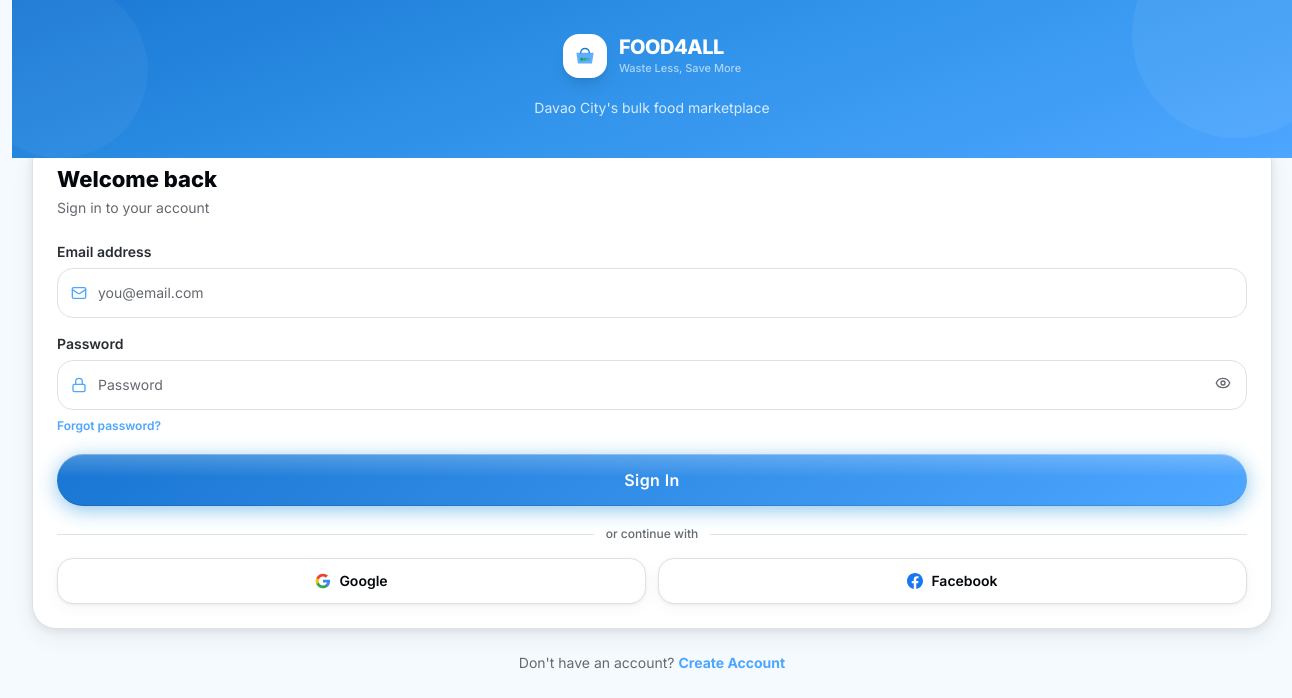
it: rendered auth screens › shows login validation errors for empty email and password
Click the button "Sign In" at [652, 480], box [57,454,1247,506]
(page scrolled)
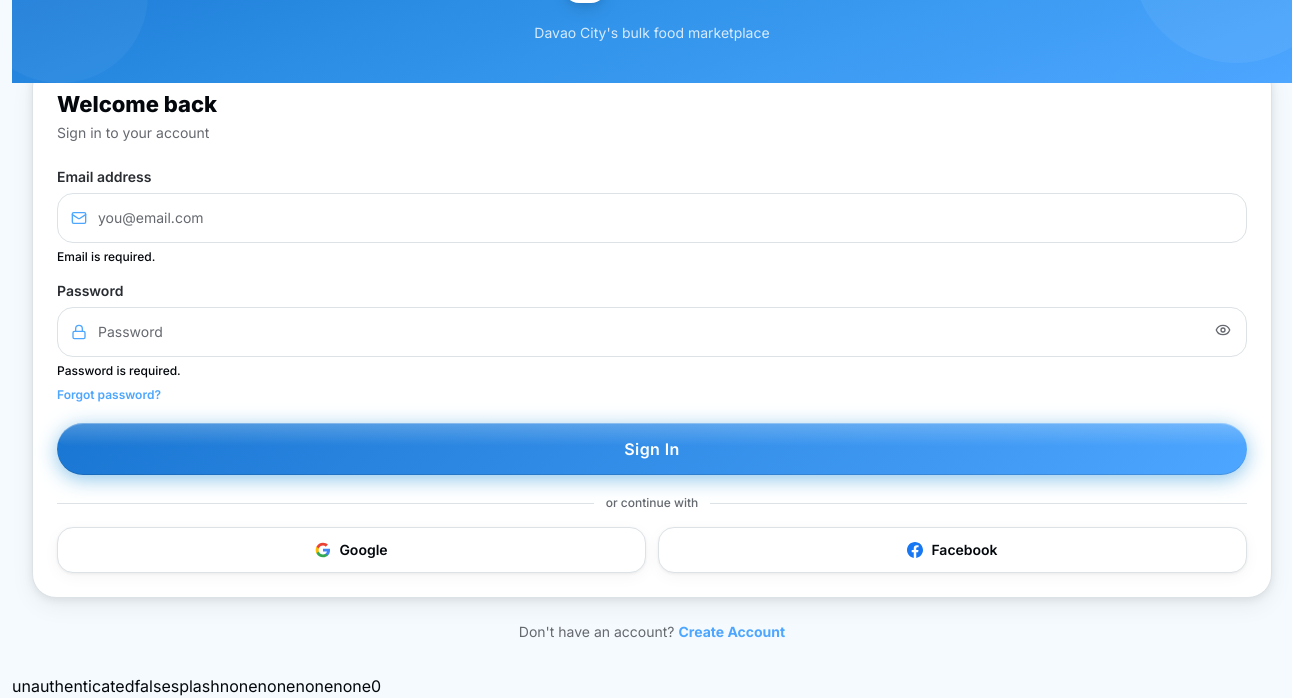
Expected: the text with test id "authenticated" reads "false", [134,676,171,696]
Expected: the text "Email is required." is shown, [57,249,155,264]
Expected: the text "Password is required." is shown, [57,363,181,378]
